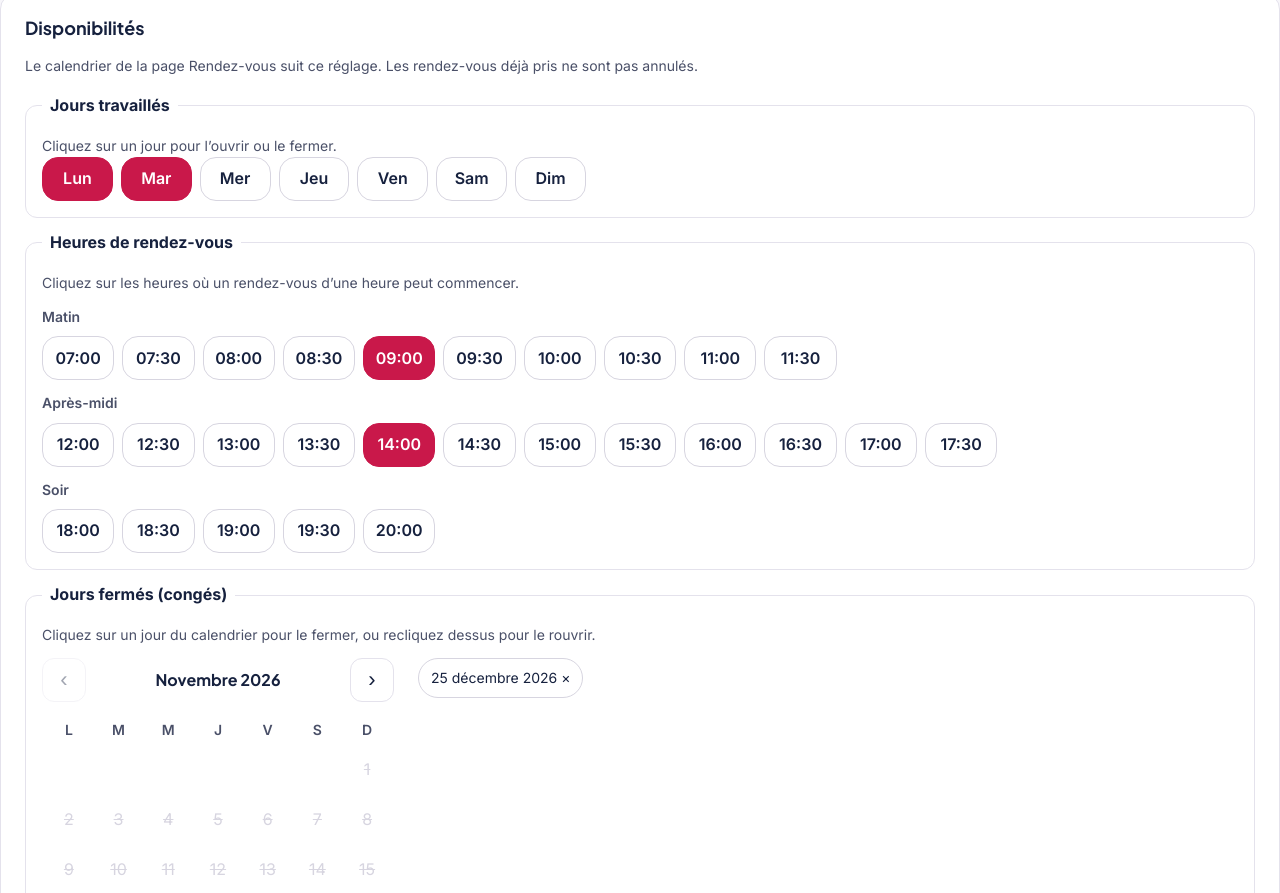
Test: Back-office : disponibilités › enregistre jours, heures et jours fermés, réglés d’un clic
Click the button with aria-label "Mercredi": {"x": 235, "y": 179} left=200, top=157, right=271, bottom=201
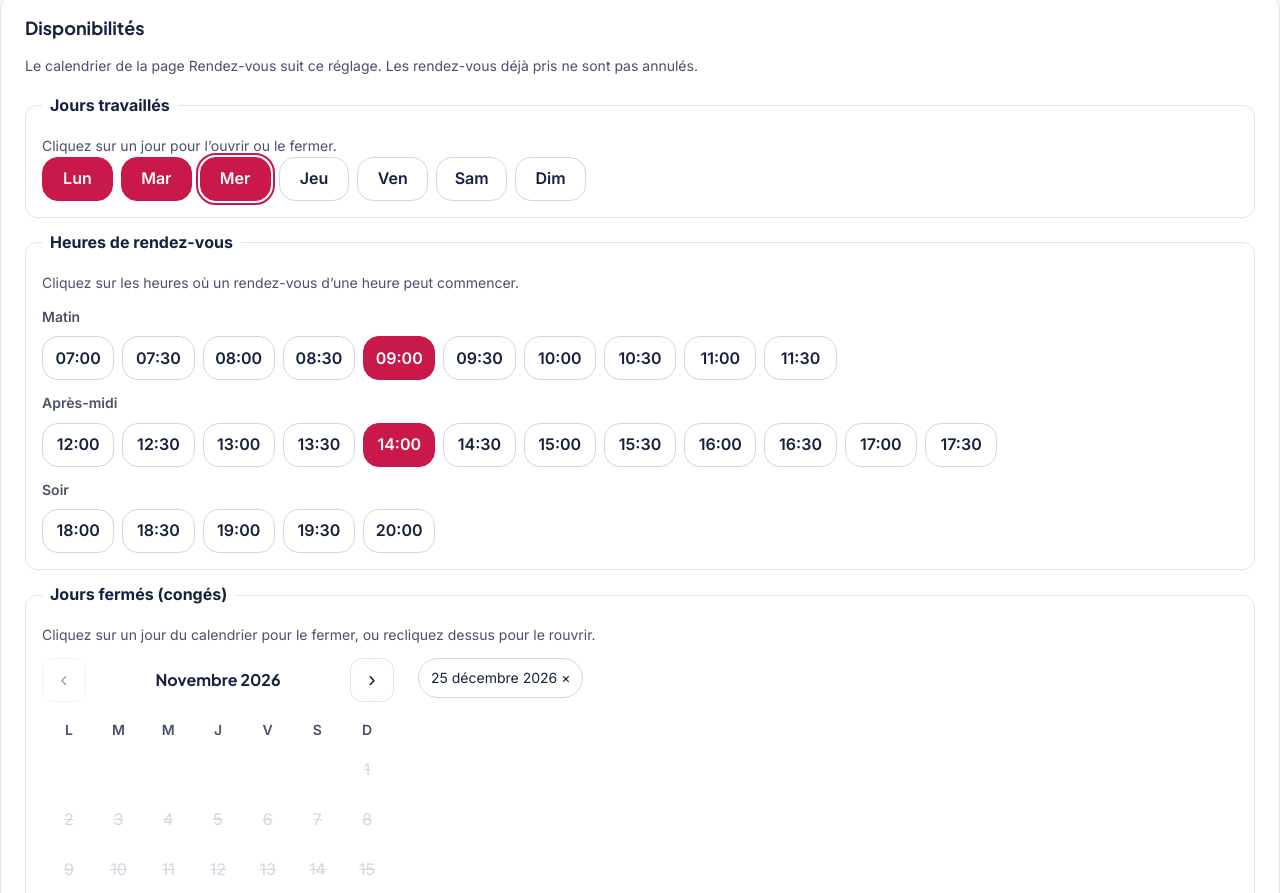
Click the button "09:00": {"x": 399, "y": 358} left=363, top=336, right=435, bottom=380
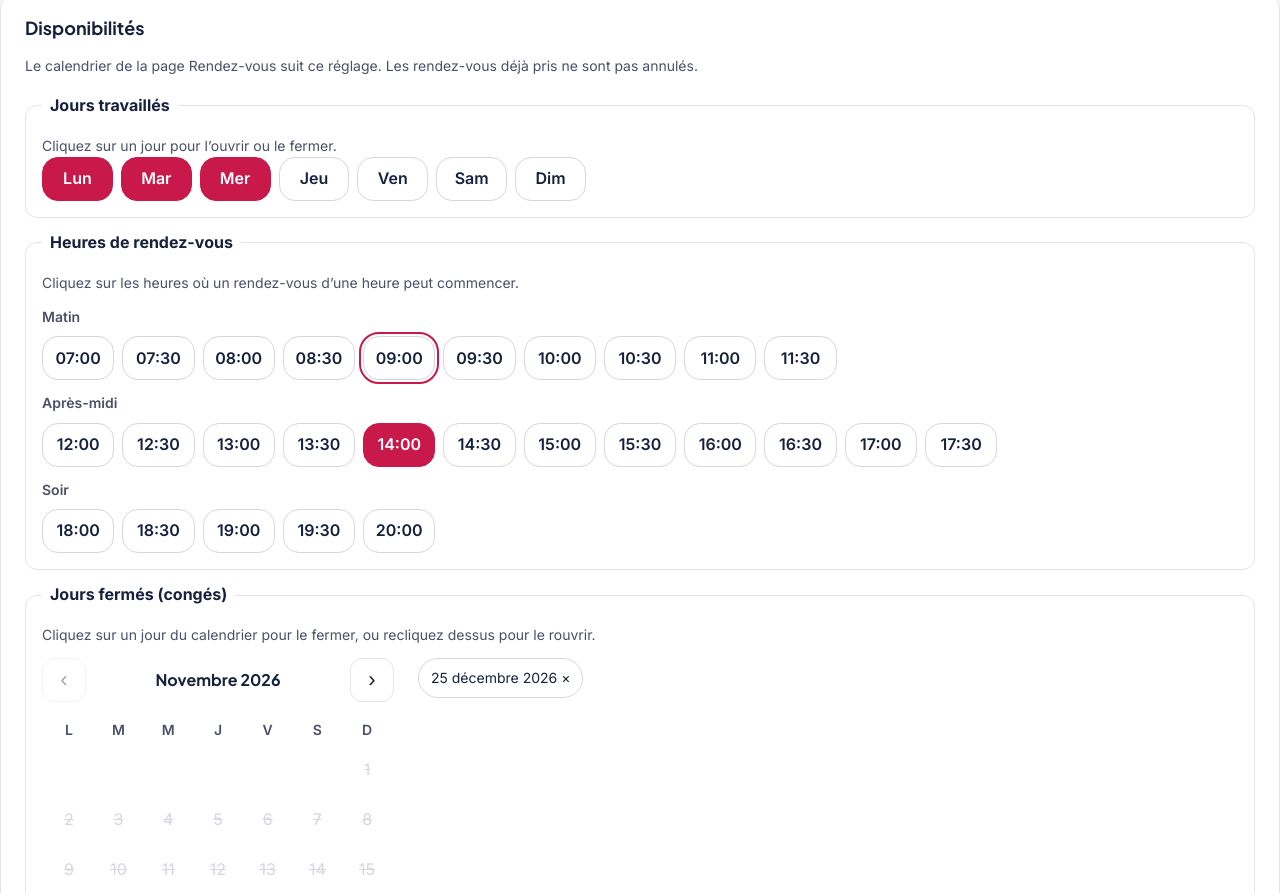
Click the button "10:30": {"x": 640, "y": 358} left=604, top=336, right=676, bottom=380
(page scrolled)
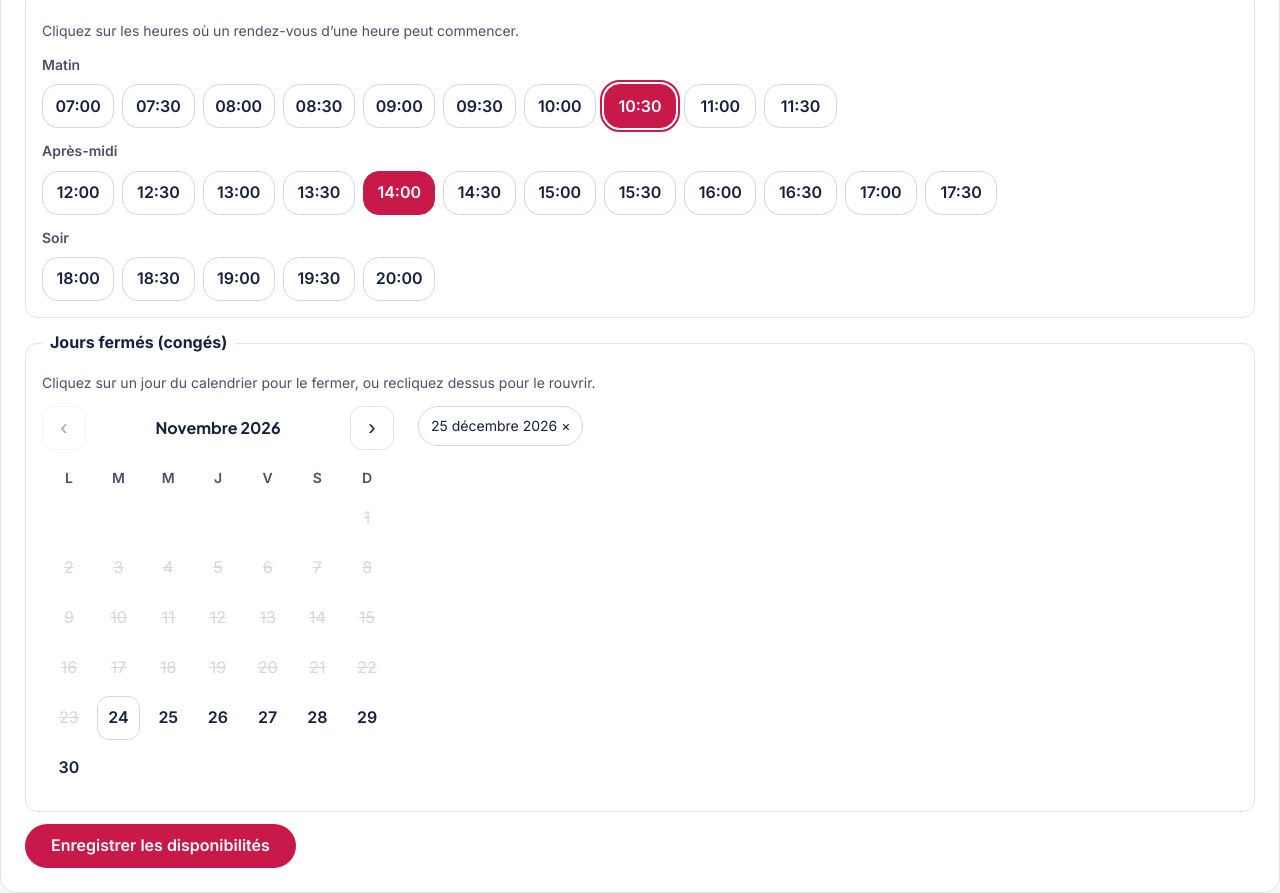
Click the button "Enregistrer les disponibilités": {"x": 160, "y": 846} left=25, top=824, right=296, bottom=868
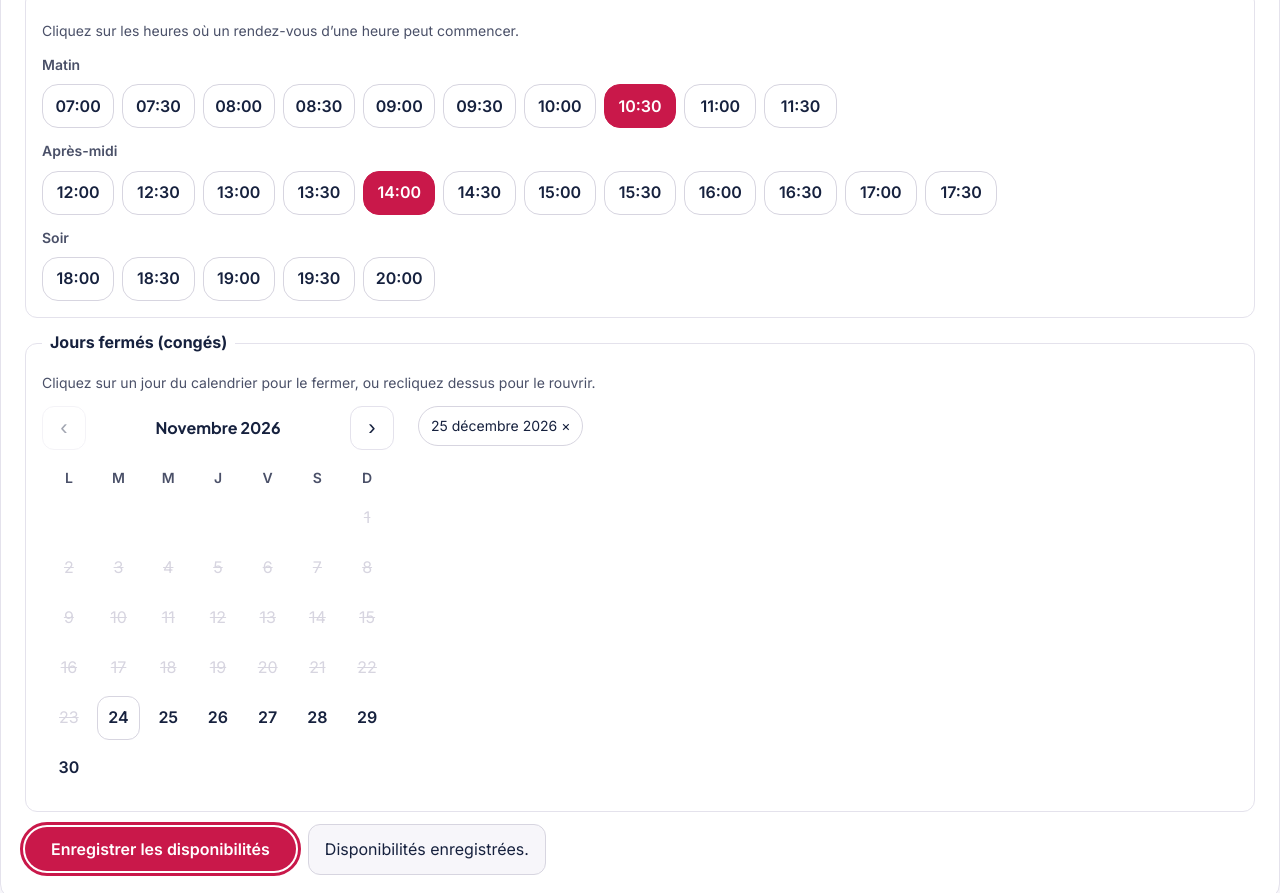
Result: the message shows "enregistrées" at left=325, top=839, right=529, bottom=859
